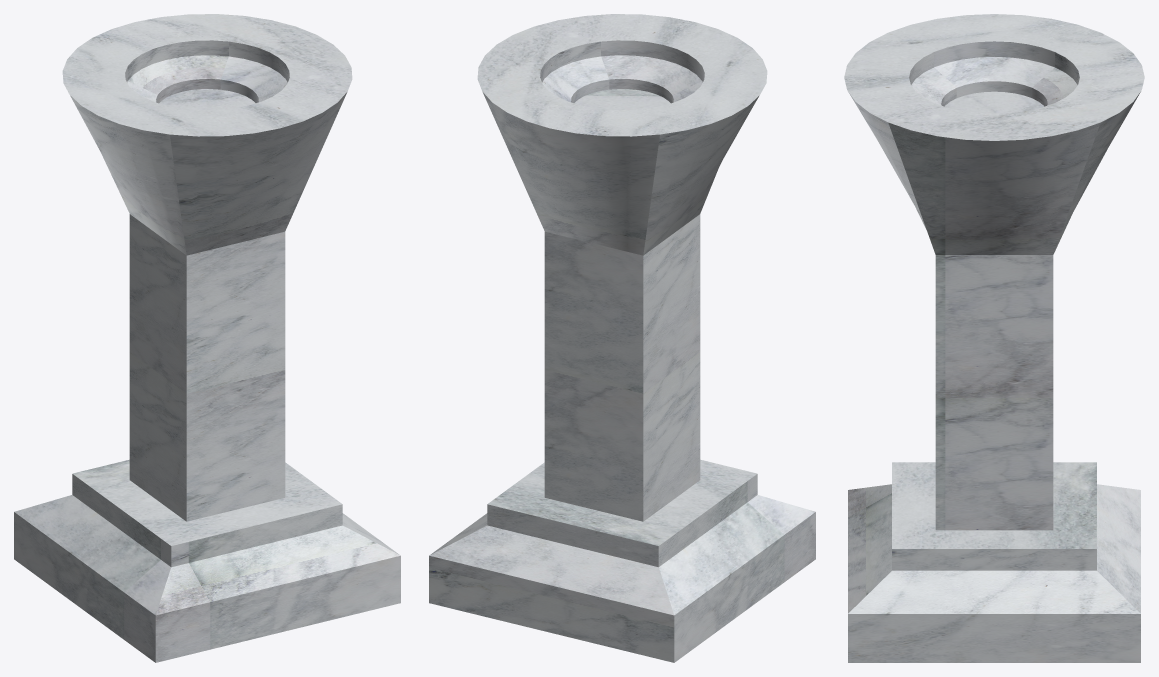
File: Altar.obj
3 renders of one model, left to right at view 1: azimuth 30°, elevation 25°; view 2: azimuth 150°, elevation 25°; view 3: azimuth 270°, elevation 25°, orthographic. The views are drawn at different scales.
Parts seen in each view (by area): view 1: CenterPiece_Circle.005; view 2: CenterPiece_Circle.005; view 3: CenterPiece_Circle.005.
Boxes of the visible parts, <box> form: CenterPiece_Circle.005: <box>14,14,400,662</box>; CenterPiece_Circle.005: <box>429,14,815,662</box>; CenterPiece_Circle.005: <box>844,14,1144,662</box>.
Bounding box in the file's own units: 3.33 × 6.4 × 3.33.
1 material, 1 textured.
